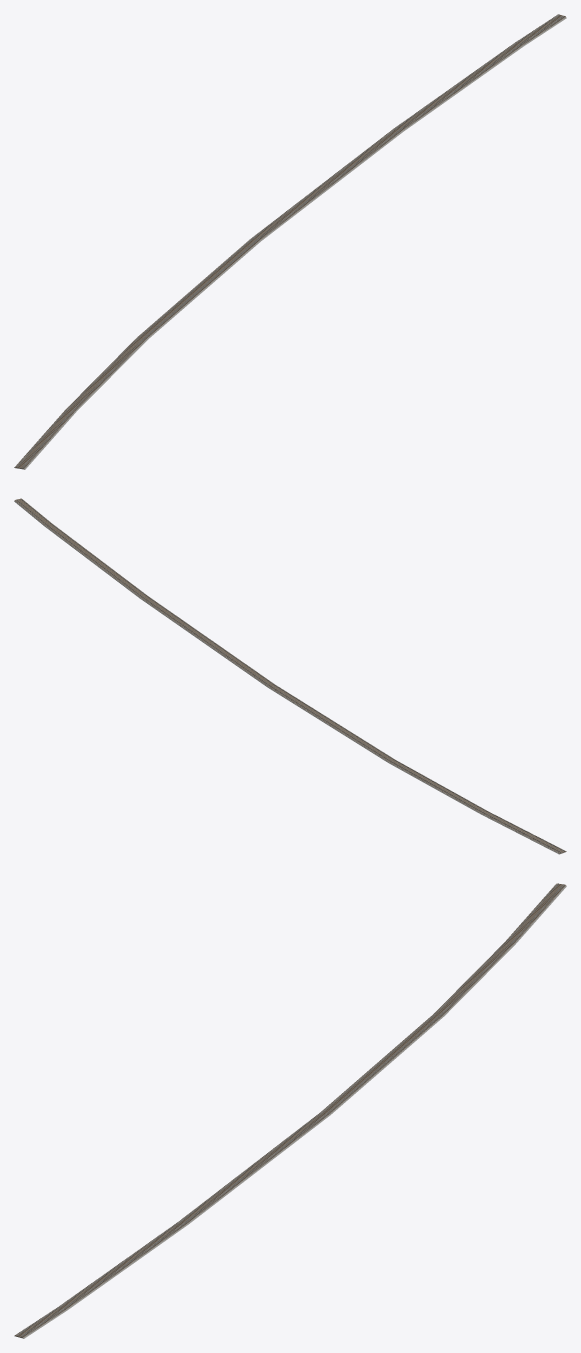
The model's file is rail_01201.glb.
The picture shows the model from 3 angles, top to bottom: view 1: azimuth 90°, elevation 25°; view 2: azimuth 150°, elevation 25°; view 3: azimuth 270°, elevation 25°; orthographic projection. The views are drawn at different scales.
Visible parts, largest first — view 1: Sleepers, Ballast, Rails; view 2: Sleepers, Ballast, Rails; view 3: Sleepers, Ballast, Rails.
Part boxes in pixels (x1,y1,x2,y2): Sleepers: [15, 14, 565, 468]; Ballast: [14, 15, 566, 469]; Rails: [17, 14, 563, 467]; Sleepers: [15, 498, 565, 853]; Ballast: [14, 499, 566, 854]; Rails: [16, 499, 564, 852]; Sleepers: [15, 883, 565, 1337]; Ballast: [14, 884, 566, 1338]; Rails: [16, 883, 564, 1336].
Bounding box in the file's own units: 266 × 0.48 × 137.
